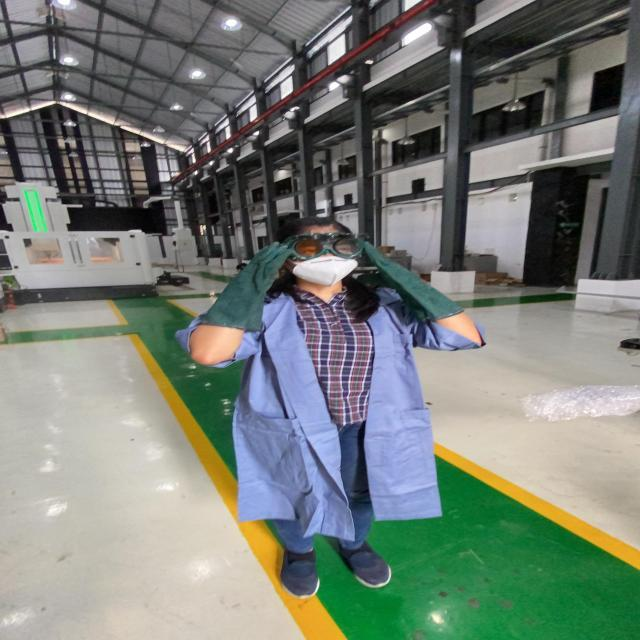glasses: (271, 228, 371, 262)
